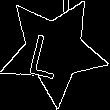L_N: (33, 22, 74, 79)
